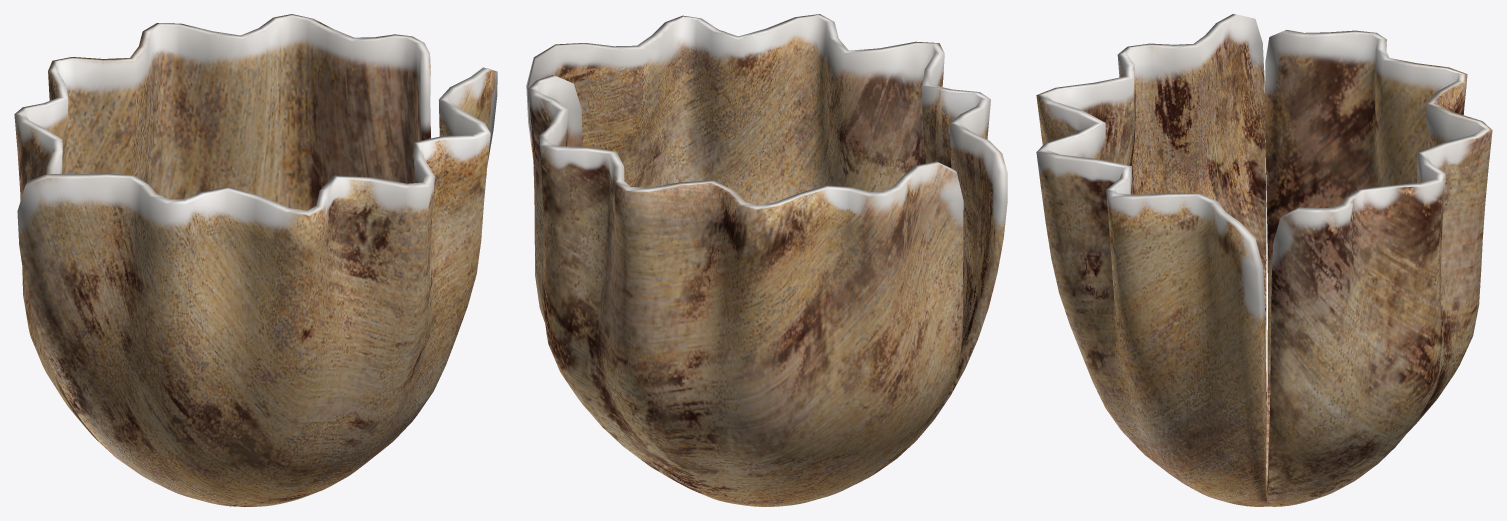
Rendered from clam.fbx.
3 views of the same model, side by side, from view 1: azimuth 30°, elevation 25°; view 2: azimuth 150°, elevation 25°; view 3: azimuth 270°, elevation 25° (orthographic). The views are drawn at different scales.
Visible parts, largest first — view 1: clam; view 2: clam; view 3: clam.
Part boxes in pixels (x1=…): clam: x1=14, y1=14, x2=497, y2=506; clam: x1=526, y1=14, x2=1007, y2=506; clam: x1=1036, y1=14, x2=1492, y2=506.
Bounding box in the file's own units: 197 × 150 × 166.
1 material, 1 textured.
